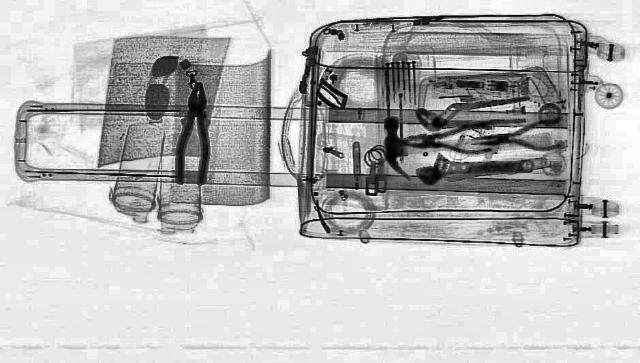Pliers: (172, 82, 214, 184), (466, 117, 568, 155), (398, 122, 494, 156)
Wrench: (412, 150, 534, 184)
